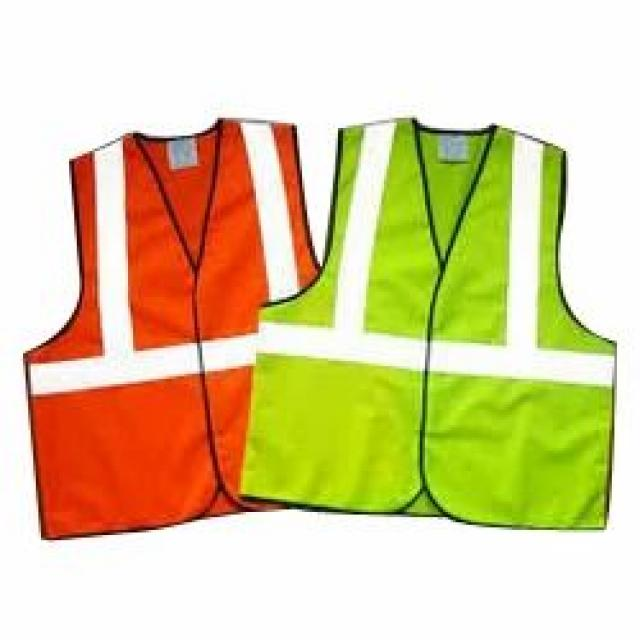Reflective-Jacket: (10, 98, 640, 532)
